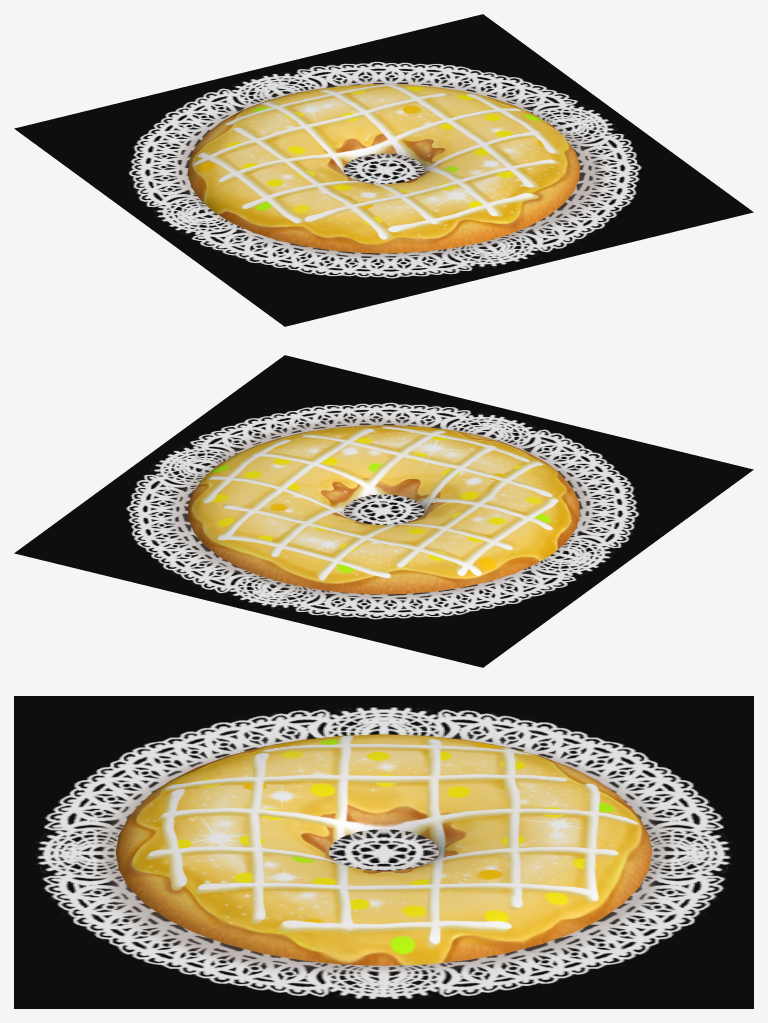
Rendered from WarpB.fbx.
3 renders of one model, top to bottom at view 1: azimuth 30°, elevation 25°; view 2: azimuth 150°, elevation 25°; view 3: azimuth 270°, elevation 25°, orthographic. The views are drawn at different scales.
Visible parts, largest first — view 1: pPlane1, WarpA; view 2: pPlane1, WarpA; view 3: pPlane1, WarpA.
Boxes of the visible parts, bbox=[...] form: pPlane1: bbox=[14, 14, 753, 326]; WarpA: bbox=[188, 84, 579, 253]; pPlane1: bbox=[14, 355, 753, 667]; WarpA: bbox=[188, 425, 579, 594]; pPlane1: bbox=[14, 696, 753, 1008]; WarpA: bbox=[115, 734, 652, 965].
Size of the model in its own units: 4.6 by 0.1541 by 4.6.
